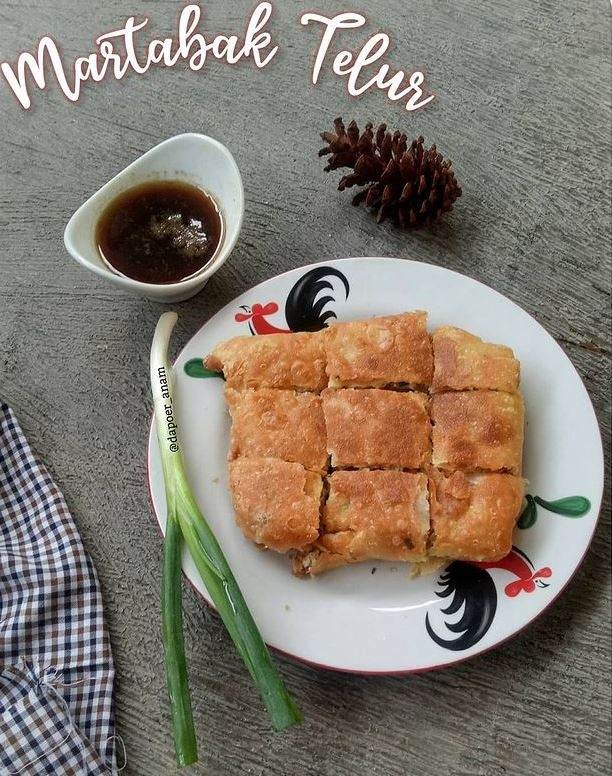martabak: (221, 312, 526, 578)
